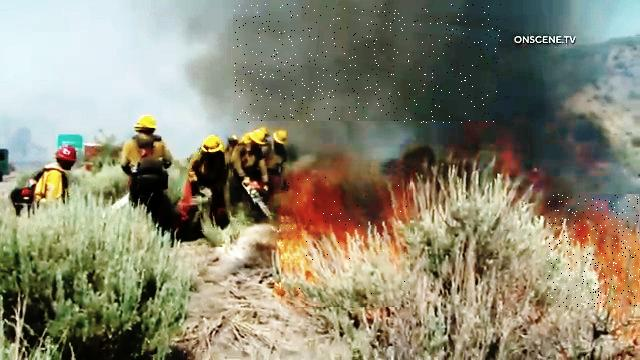fire: (282, 162, 413, 307), (547, 194, 640, 307)
smoke: (234, 5, 502, 124)
